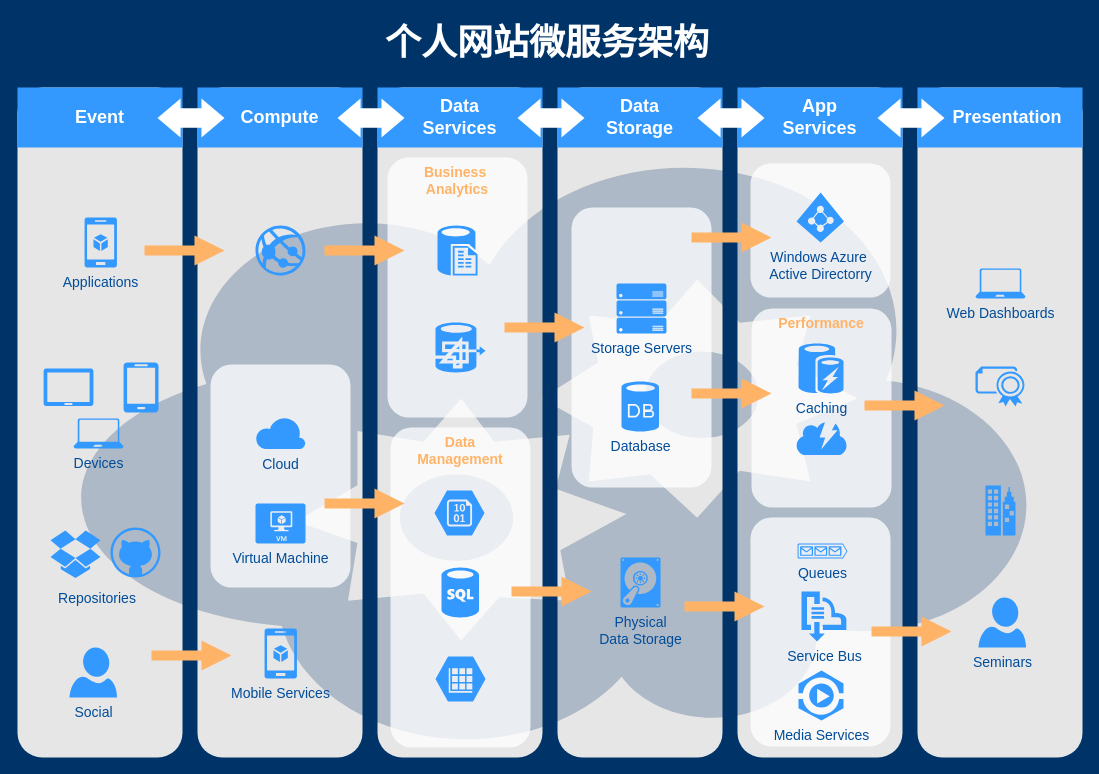
The diagram is 1099 pixels wide and 774 high, and some of its shapes have lost their labels. The box of each missing label's shape, as (x1, y1, x2, y2) in pixels:
Azure Website: (255, 225, 305, 275)
Blobs: (434, 490, 484, 535)
Certificates: (975, 366, 1025, 406)
Cloud Services: (210, 364, 350, 587)
Content Delivery Network: (796, 422, 846, 454)
Enterprise Services: (985, 485, 1015, 535)
HDInsight: (435, 322, 485, 372)
Identity: (750, 163, 890, 297)
Messaging: (750, 517, 890, 746)
SQL Database: (441, 567, 478, 617)
SQL Reporting: (437, 225, 477, 275)
Storage Management: (571, 207, 711, 487)
Tables: (435, 656, 485, 701)
